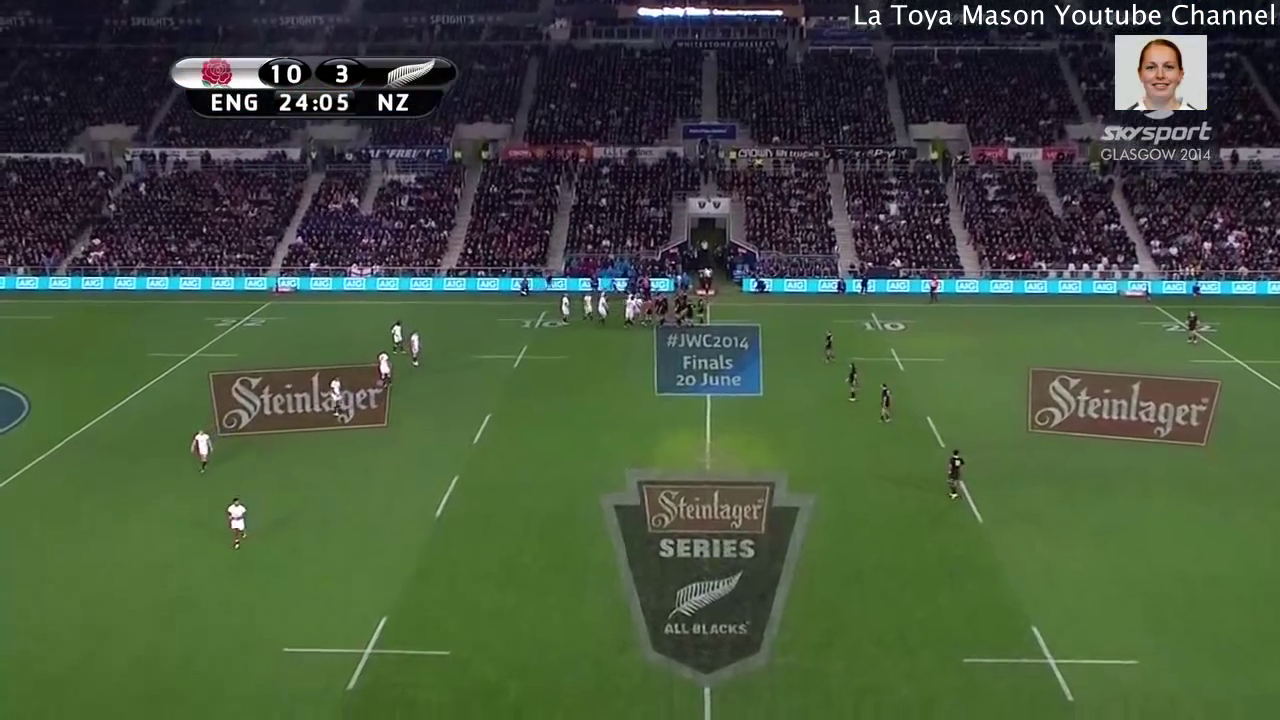10_metre: (949, 612, 1166, 710), (273, 608, 462, 699), (848, 343, 952, 372), (471, 343, 571, 369), (838, 307, 923, 334), (493, 309, 580, 331)
player: (222, 493, 253, 554), (189, 424, 217, 478), (842, 359, 866, 406), (373, 347, 395, 392), (328, 368, 349, 415), (874, 378, 894, 427), (819, 325, 840, 366), (405, 327, 425, 369), (620, 289, 640, 329), (389, 316, 410, 354), (593, 288, 613, 327), (653, 291, 672, 330), (694, 293, 714, 329), (557, 291, 574, 327), (580, 288, 595, 323), (636, 296, 653, 326), (673, 298, 685, 329), (684, 298, 697, 325)
